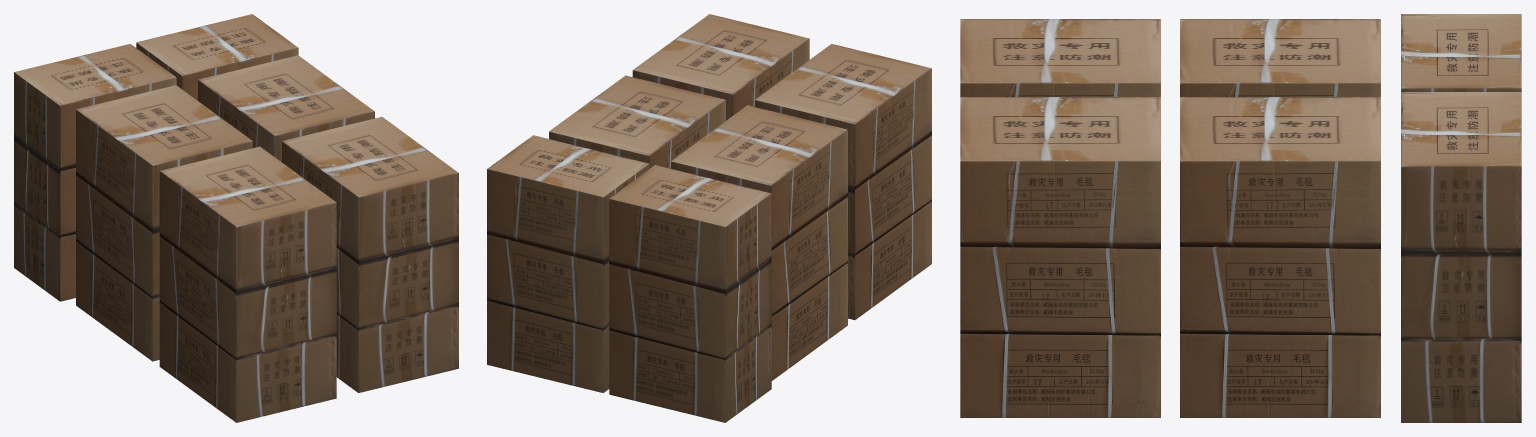
Rendered from maotan.FBX.
The picture shows the model from 3 angles, left to right: view 1: azimuth 30°, elevation 25°; view 2: azimuth 150°, elevation 25°; view 3: azimuth 270°, elevation 25°; orthographic projection. The views are drawn at different scales.
Parts seen in each view (by area): view 1: 对象106; view 2: 对象106; view 3: 对象106.
Boxes of the visible parts, x1=… form: 对象106: x1=14, y1=14, x2=458, y2=422; 对象106: x1=487, y1=14, x2=931, y2=422; 对象106: x1=960, y1=14, x2=1521, y2=422.
Bounding box in the file's own units: 1 × 1.56 × 0.7862.
